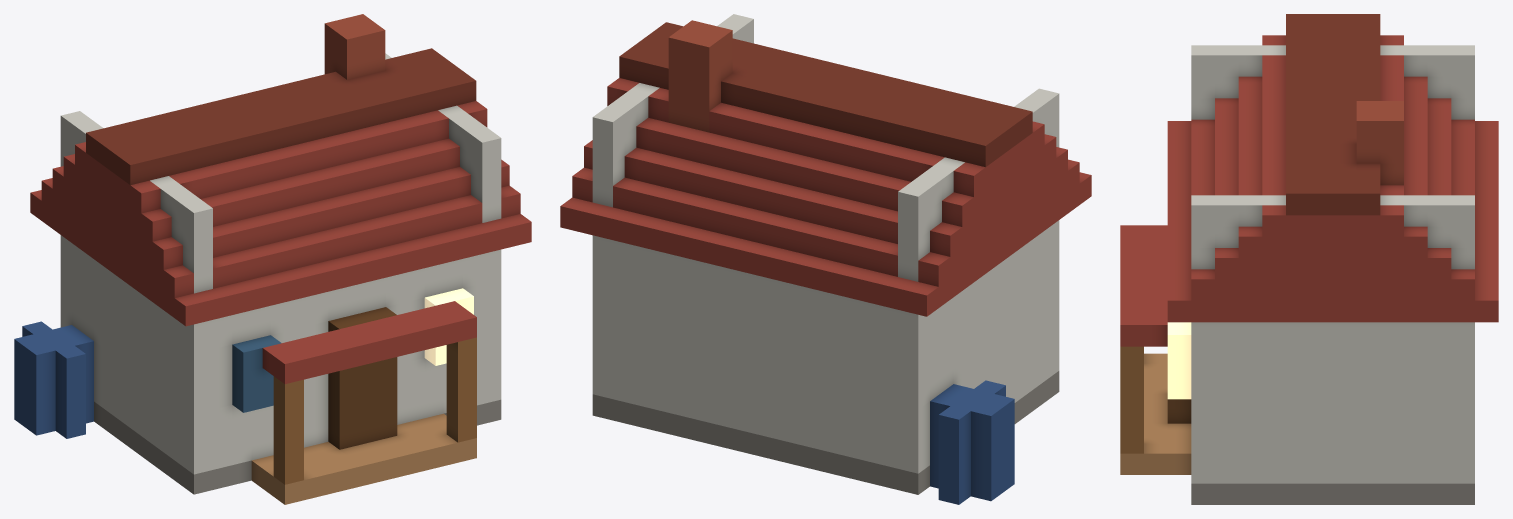
The model's file is cm_house.glb.
3 renders of one model, left to right at view 1: azimuth 30°, elevation 25°; view 2: azimuth 150°, elevation 25°; view 3: azimuth 270°, elevation 25°, orthographic. The views are drawn at different scales.
Visible parts, largest first — view 1: cm_house_body; view 2: cm_house_body; view 3: cm_house_body.
Boxes of the visible parts, x1,y1,x2,y2 form: cm_house_body: (14, 14, 531, 504); cm_house_body: (560, 14, 1091, 504); cm_house_body: (1120, 14, 1498, 504).
Bounding box in the file's own units: 1.25 × 1.06 × 1.
Materials: 1 (1 with a texture image).
